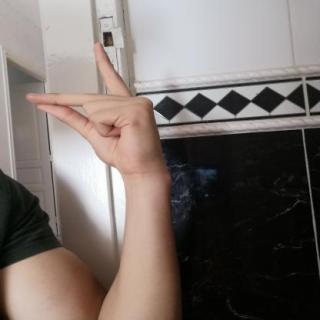TAA: (15, 37, 174, 178)
